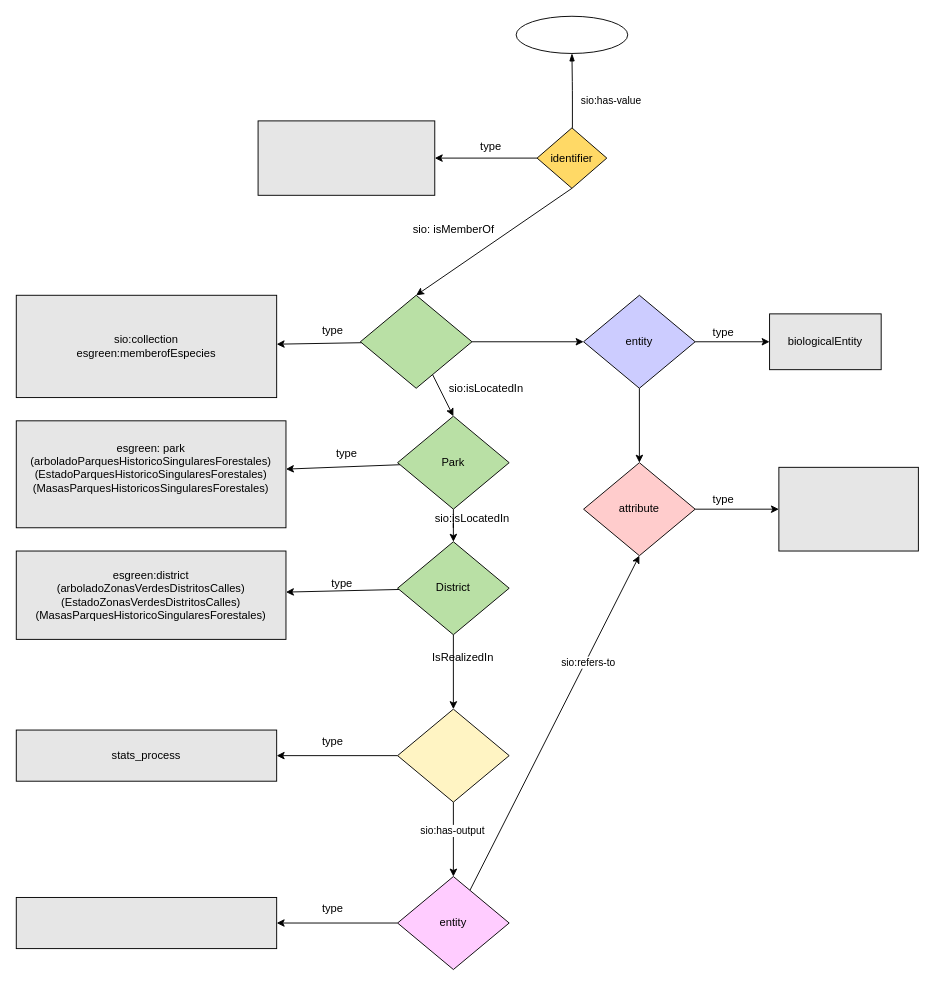
This 935x986 diagram has some shape labels left out. The centre of each missing label's shape, as x and y in pixels:
"collectionOfTrees" goes at point 415,341.
"esgreen:especie_name esgreen:Especie Predominante sio:ScientificName wiki:P225" goes at point 346,157.
"gbif_000008" goes at point 571,34.
"Process" goes at point 453,755.
"sio: information content entity" goes at point 146,923.
"Total Count Units Mean Height sio: DimensionalQuantity LifeStatus" goes at point 848,508.
